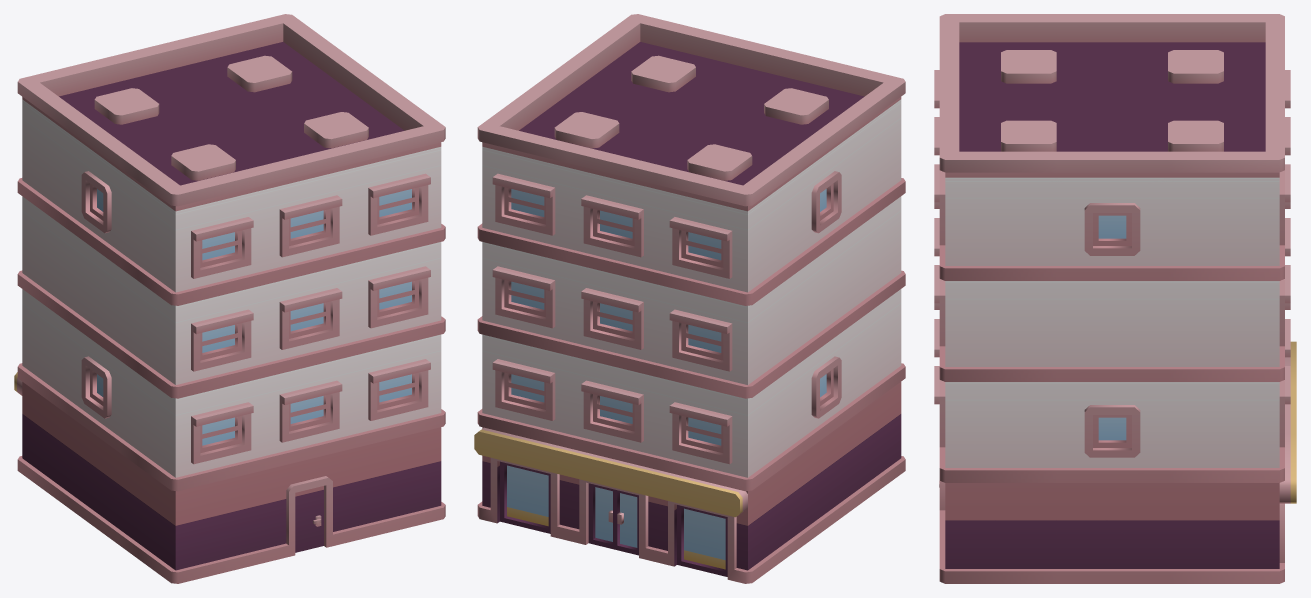
Rendered from apartment_4story_shopfront.obj.
3 renders of one model, left to right at view 1: azimuth 30°, elevation 25°; view 2: azimuth 150°, elevation 25°; view 3: azimuth 270°, elevation 25°, orthographic. The views are drawn at different scales.
Visible parts, largest first — view 1: building-i; view 2: building-i; view 3: building-i.
Part boxes in pixels (x1,y1,x2,y2): building-i: (14, 14, 445, 583); building-i: (474, 14, 905, 583); building-i: (934, 14, 1296, 583).
Bounding box in the file's own units: 24.8 × 33.6 × 26.04.
1 material, 1 textured.
